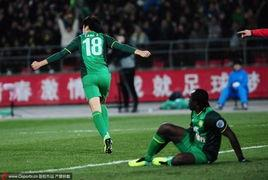bending: (124, 87, 250, 171)
up: (30, 16, 151, 158)
